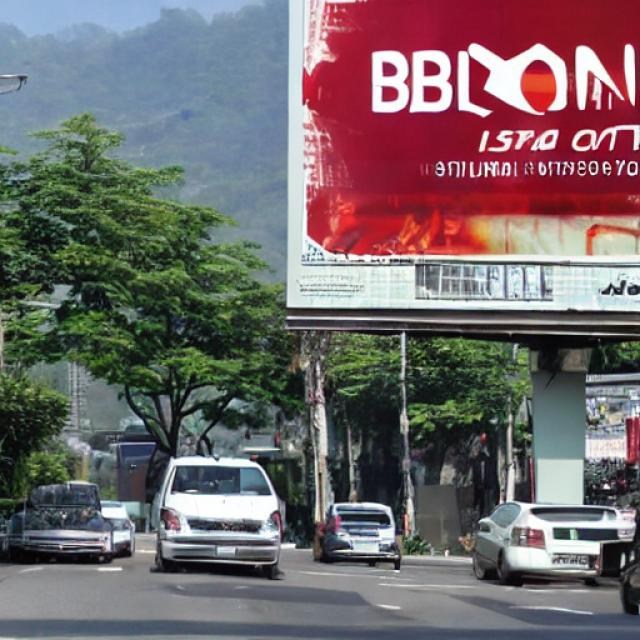Billboard: (287, 0, 640, 334)
